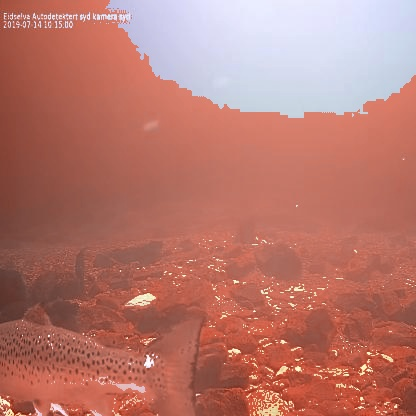salmon: (0, 299, 209, 415)
